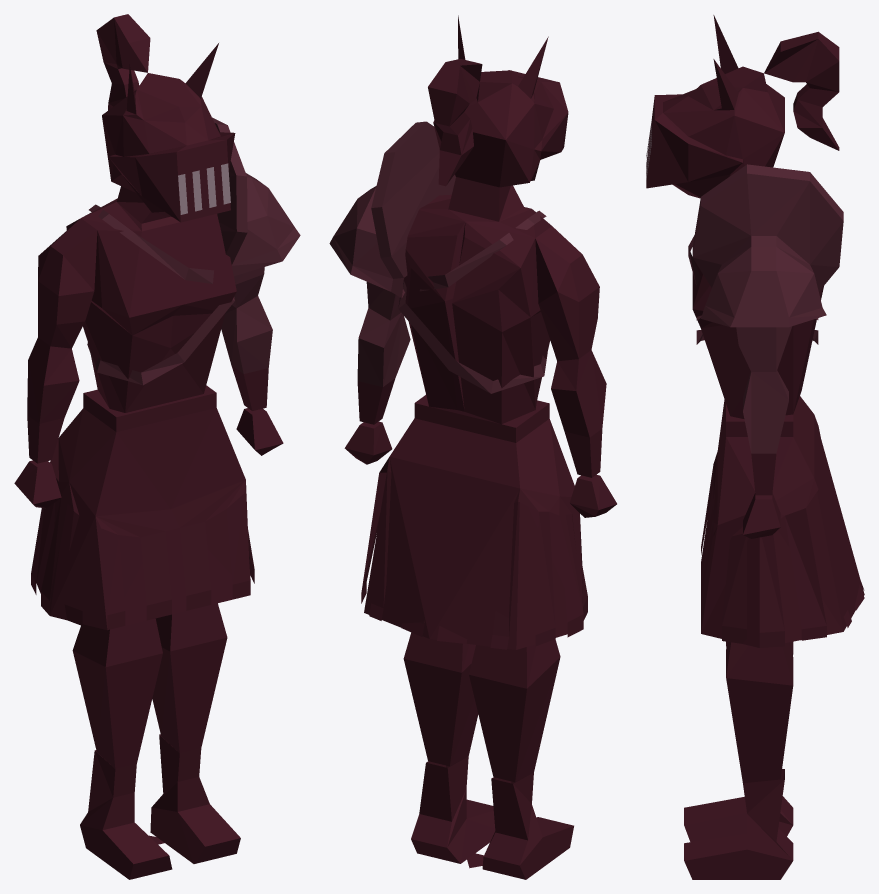
Rendered from verac.obj.
The picture shows the model from 3 angles, left to right: view 1: azimuth 30°, elevation 25°; view 2: azimuth 150°, elevation 25°; view 3: azimuth 270°, elevation 25°; orthographic projection.
Bounding box in the file's own units: 73 × 215 × 52.
